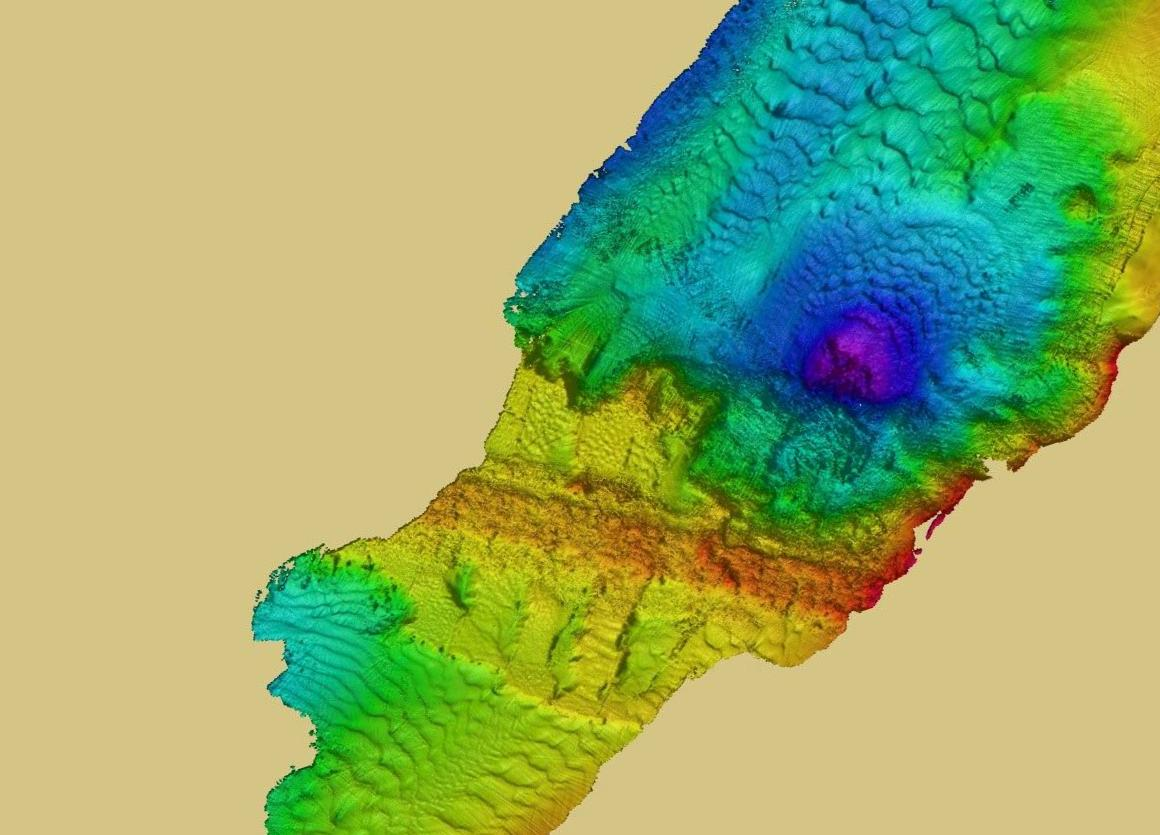Dune: (776, 21, 1038, 192), (234, 672, 522, 809)
Scarp: (850, 440, 1081, 658), (982, 326, 1160, 491)
Scour pit: (795, 284, 955, 433)
Submerged dike: (403, 446, 845, 630)
